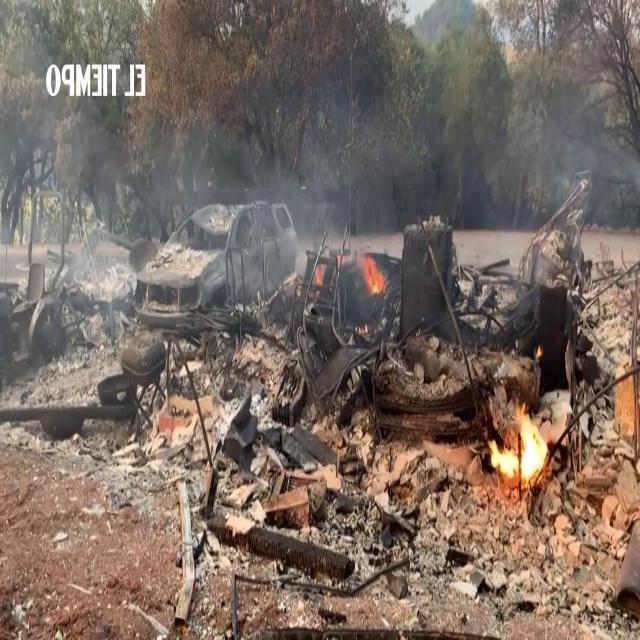Fire: (487, 410, 545, 482), (363, 252, 387, 294)
